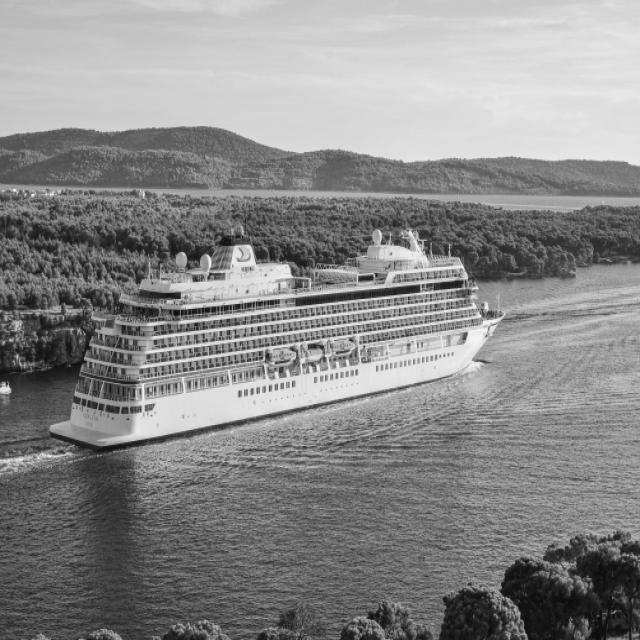cruises: (48, 220, 506, 457)
